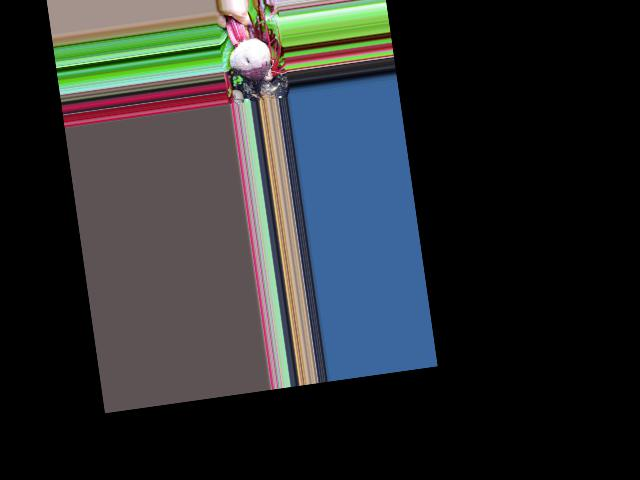beet: (223, 9, 276, 104)
